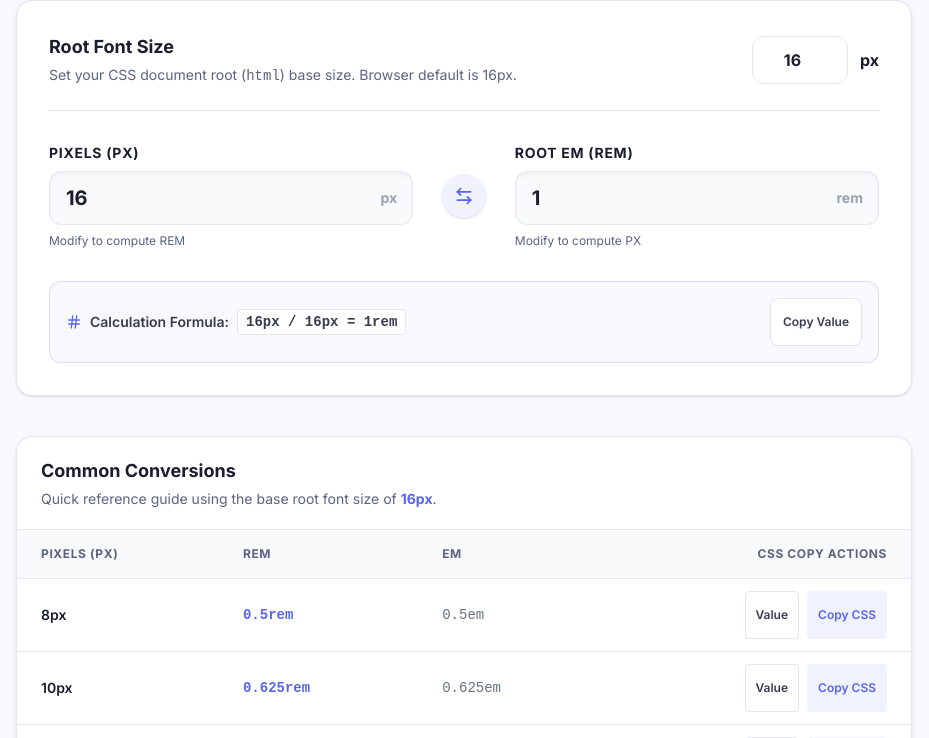
PxToRemConverter component › converts PX to REM correctly based on default 16px root font size
The width and height of the screenshot is (929, 738).
Replace the text in the field labelled "Pixels (PX)" with "32" at coordinates (231, 198), box [49,171,413,225]
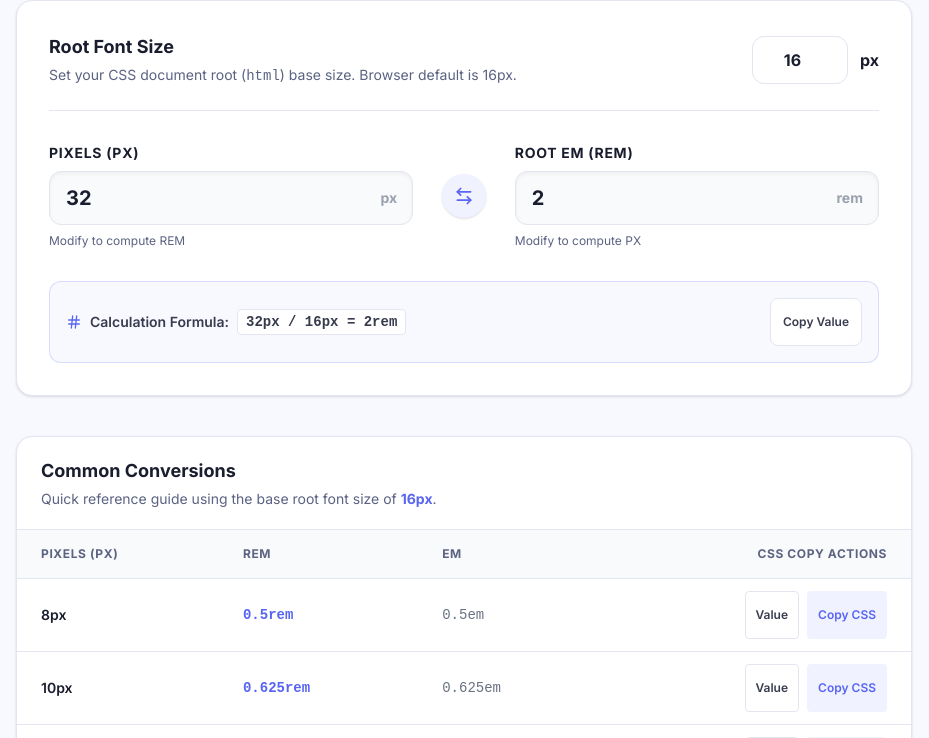
Expected: the field labelled "Root EM (REM)" holds "2", [515,171,879,225]
